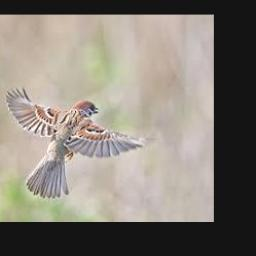Sparrow: (5, 86, 153, 198)
